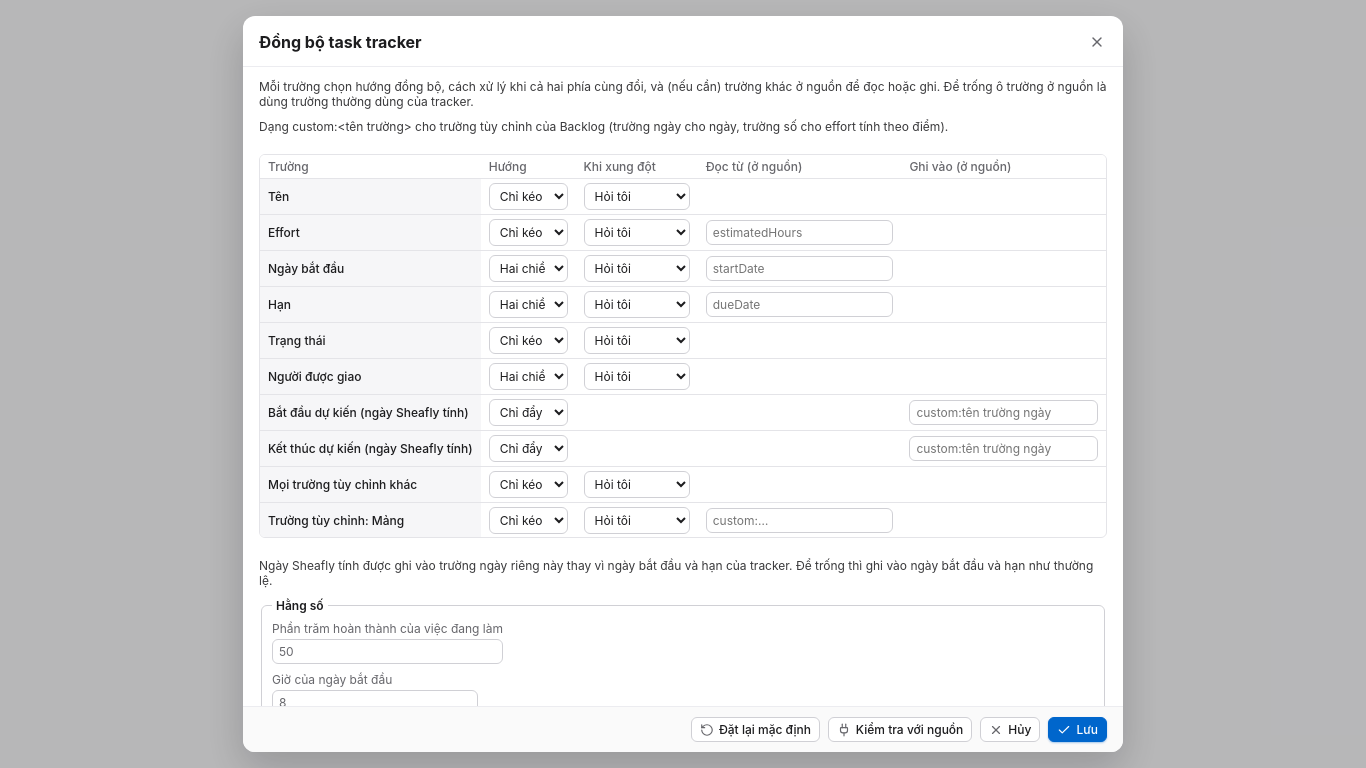
it: TrackerSettingsDialog › checks the named fields against the source without saving
The image size is (1366, 768).
Type "custom:Hạn thật" into the field named "Hạn: Đọc từ (ở nguồn)" at (800, 304), box [706,292,893,317]
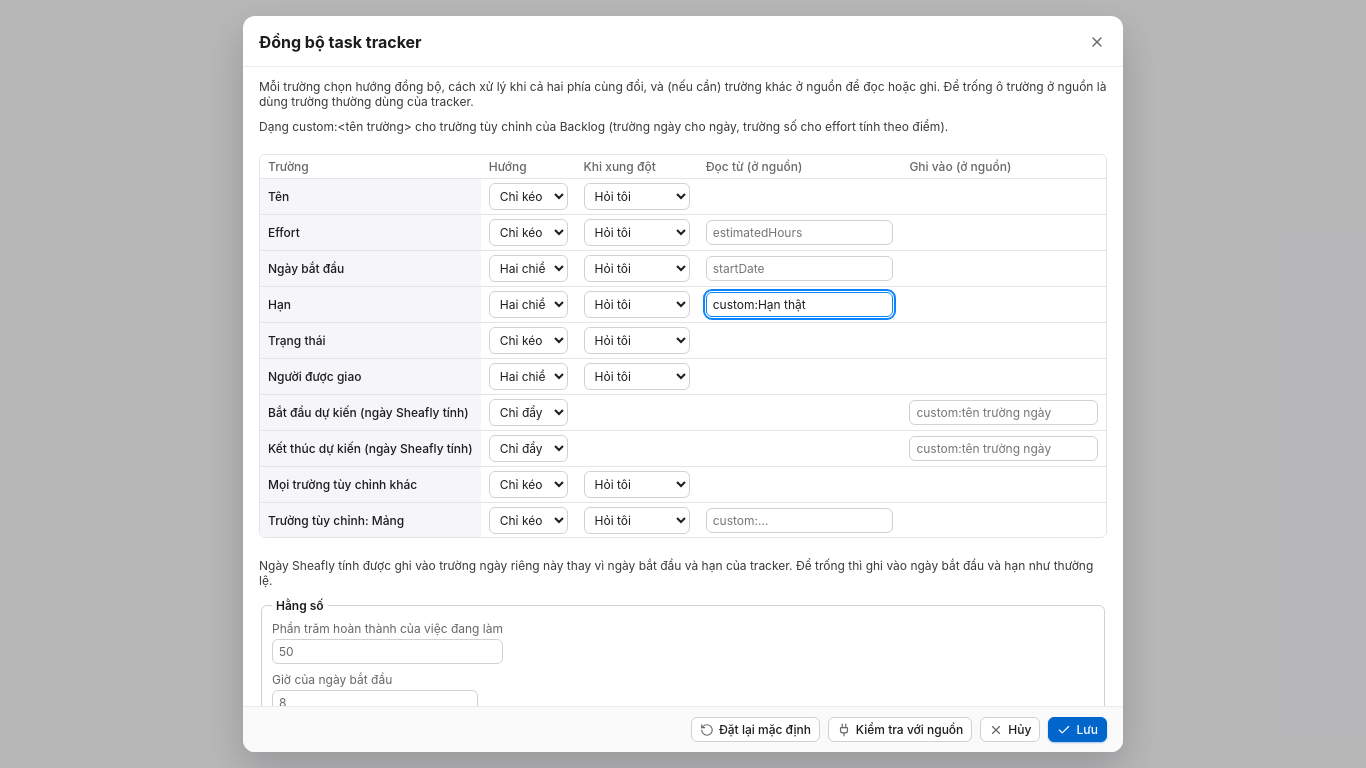
Click the button "Kiểm tra với nguồn" at (900, 730), box [828,717,972,742]
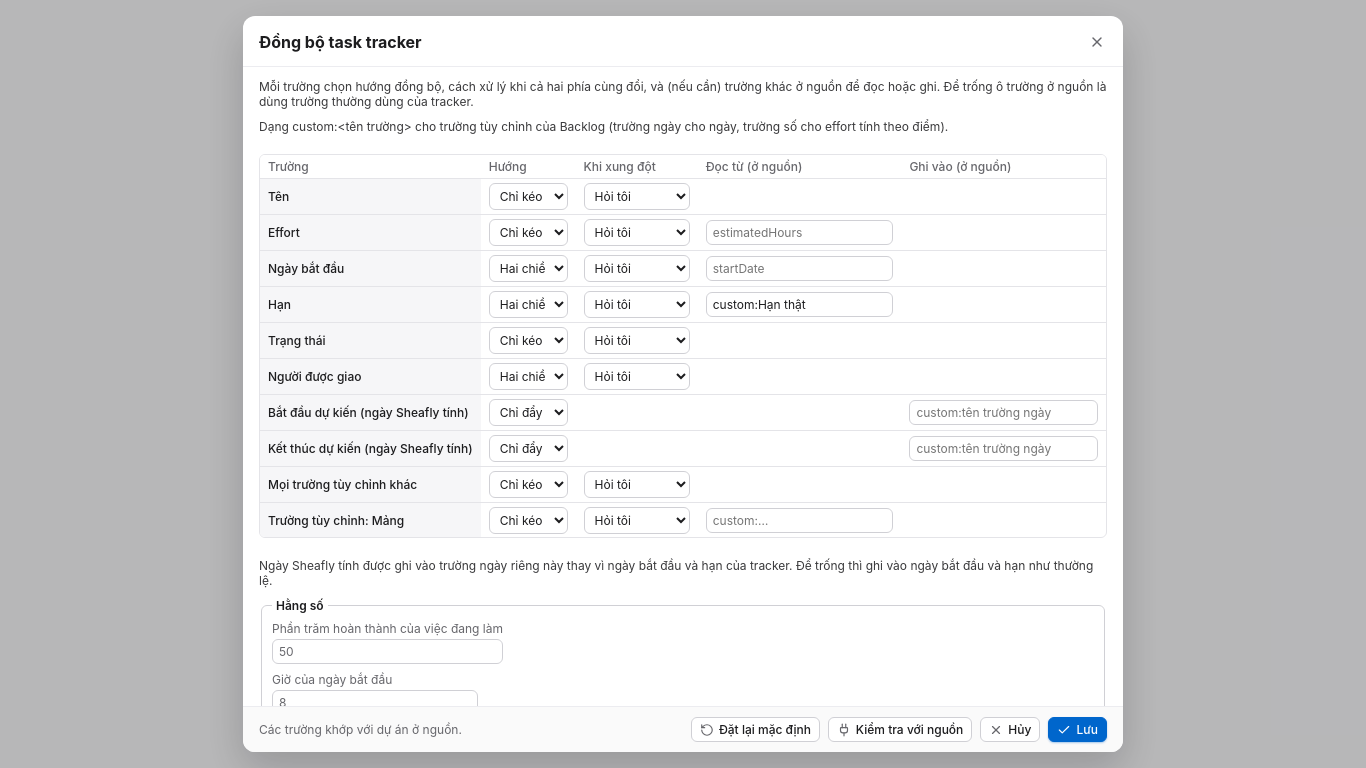
Expected: the text "Các trường khớp với dự án ở nguồn." is shown, [259,722,462,737]
